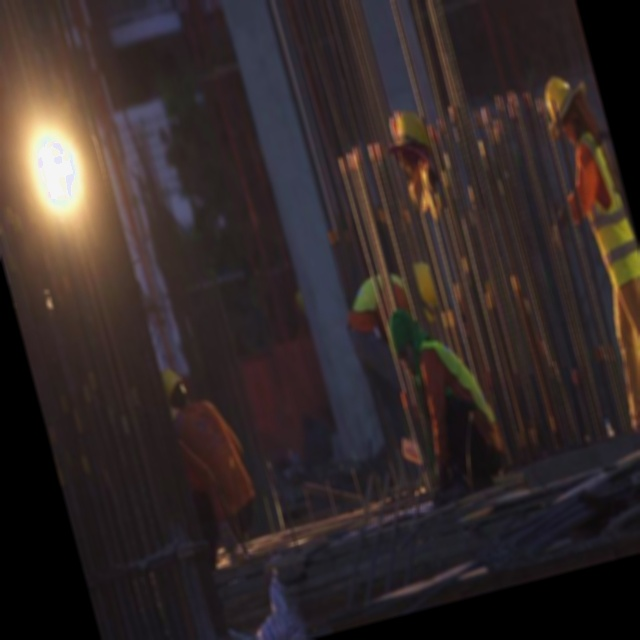Con_Casco: (381, 105, 441, 191), (539, 74, 583, 142)
Con_Chaleco: (564, 131, 640, 297), (416, 330, 497, 437)
